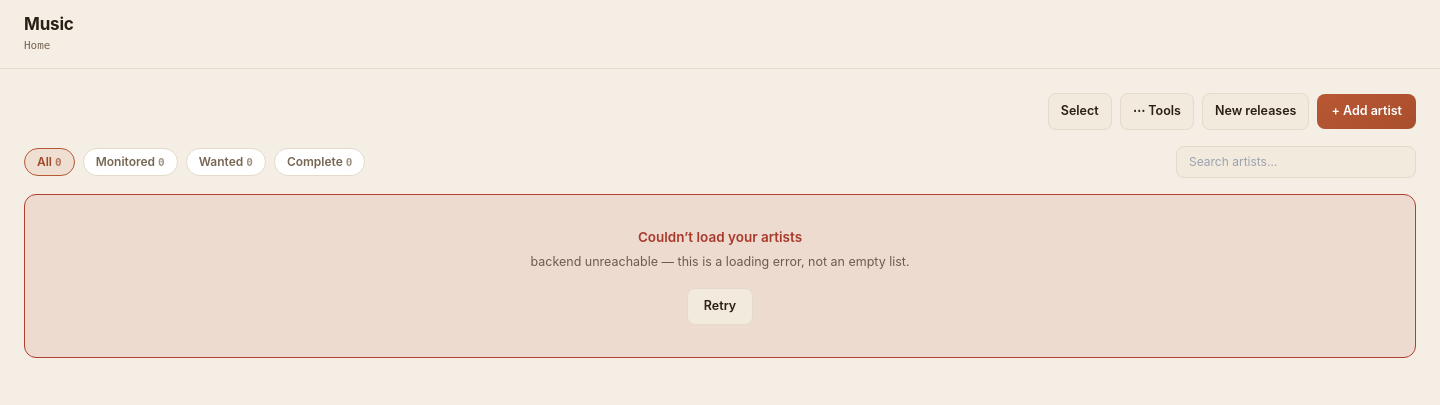
Test case: Music list states › shows an error with Retry, not 'No artists yet', when the load fails
Expected: the message is shown, top-left (24, 194), bottom-right (1416, 358)
Expected: the text "No artists yet" is not shown
Click the button "Retry".
click(720, 306)  # box top-left (687, 288), bottom-right (753, 325)
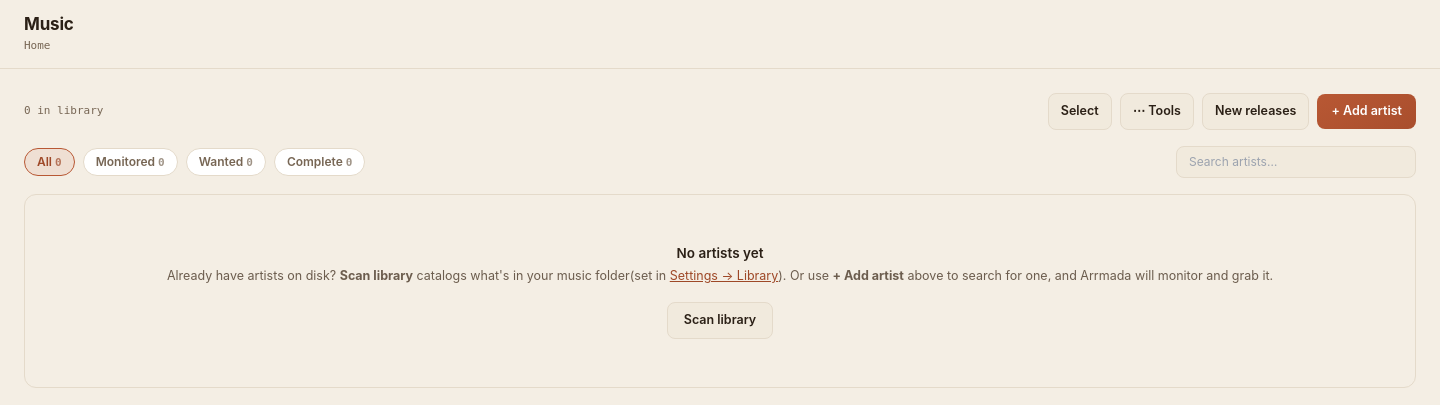
Expected: the text "No artists yet" is shown, top-left (677, 245), bottom-right (764, 261)
